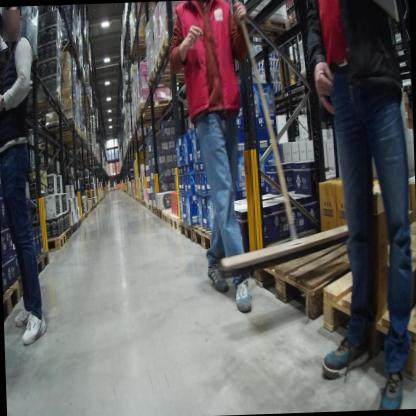pallet: (255, 200, 414, 333), (321, 228, 416, 394), (221, 5, 293, 56), (156, 30, 204, 67), (153, 52, 208, 80), (193, 220, 224, 255), (30, 87, 68, 113), (3, 274, 21, 325), (148, 70, 197, 88), (169, 208, 202, 233), (39, 231, 67, 256), (32, 248, 50, 286), (138, 98, 174, 117), (44, 116, 77, 134), (162, 203, 186, 227), (36, 136, 67, 154), (129, 34, 155, 55), (134, 108, 172, 122), (179, 218, 197, 247), (56, 124, 79, 141), (58, 34, 77, 51), (155, 204, 164, 222), (63, 226, 71, 242), (70, 222, 78, 237), (152, 202, 161, 215), (76, 218, 81, 229), (81, 35, 87, 44), (149, 205, 154, 215)
